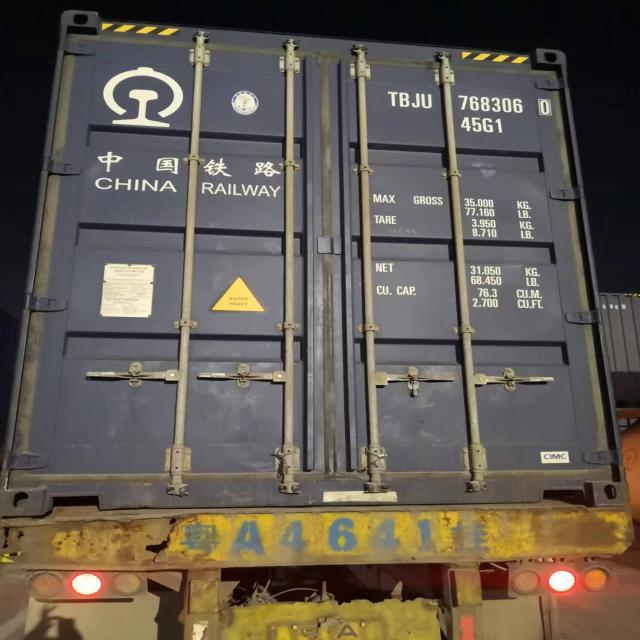ISO: (461, 115, 503, 135)
container_number: (386, 94, 551, 116)
